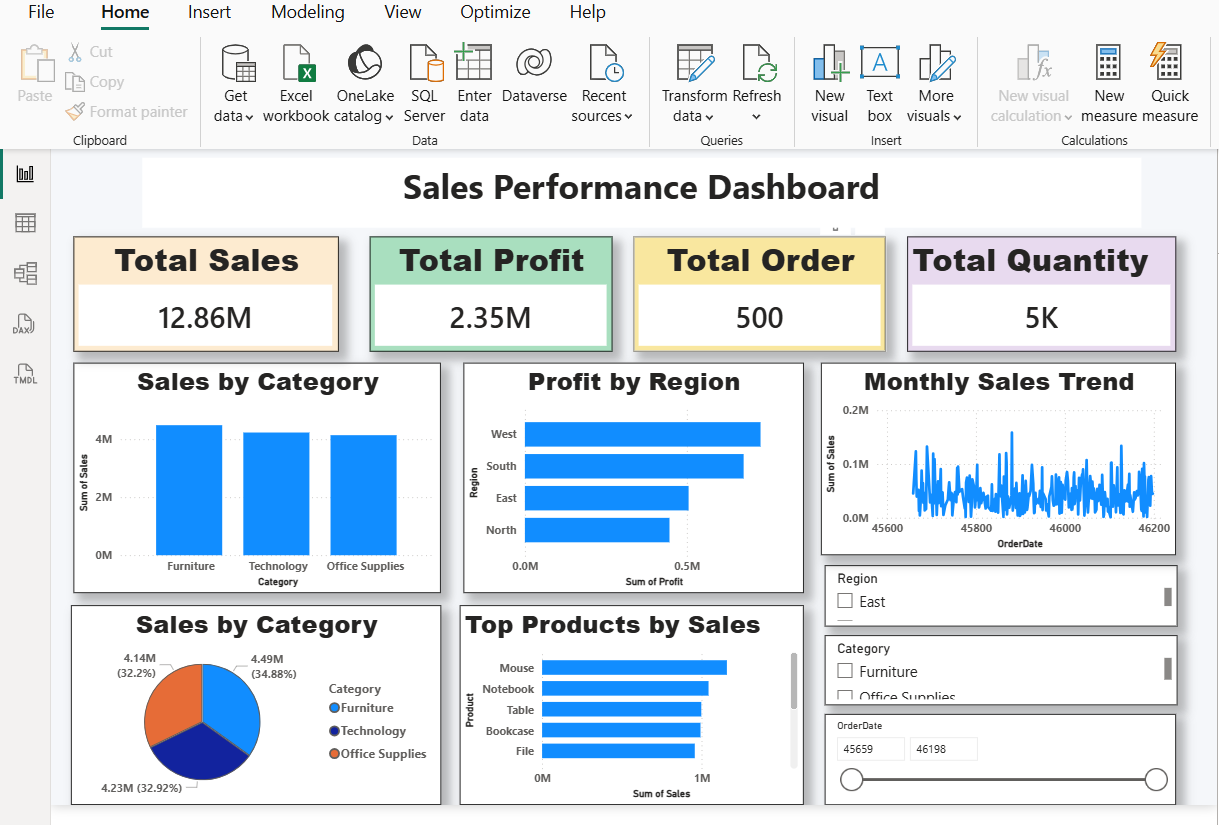

What the dashboard file says about the page in this screenshot:
{"tool":"powerbi","page":{"name":"Page 1","canvas":[1280,720],"ordinal":0},"visuals":[{"type":"cardVisual","title":"Total Profit","fields":{"Data":["SalesData.Total profit"]},"box":[349.9,96.1,266.2,126.2],"z":1000},{"type":"cardVisual","title":"Total Order","fields":{"Data":["SalesData.Total Order"]},"box":[639.5,96.1,277.2,126.2],"z":2000},{"type":"cardVisual","title":"Total Quantity","fields":{"Data":["SalesData.Total Quantity"]},"box":[940,96.1,295,126.2],"z":3000},{"type":"slicer","fields":{"Values":["SalesData.Region"]},"box":[849.4,456.9,389.7,60.4],"z":4000},{"type":"slicer","fields":{"Values":["SalesData.Category"]},"box":[849.4,533.8,385.6,68.6],"z":5000},{"type":"slicer","fields":{"Values":["SalesData.OrderDate"]},"box":[846.7,617.5,389.7,86.4],"z":6000},{"type":"clusteredColumnChart","title":"Sales by Category","fields":{"Category":["SalesData.Category"],"Y":["Sum(SalesData.Sales)"]},"box":[24.7,234.6,403.4,252.5],"z":7000},{"type":"barChart","title":"Profit by Region","fields":{"Category":["SalesData.Region"],"Y":["Sum(SalesData.Profit)"]},"box":[452.8,234.6,373.2,252.5],"z":8000},{"type":"lineChart","title":"Sales by OrderDate","fields":{"Category":["SalesData.OrderDate"],"Y":["Sum(SalesData.Sales)"]},"box":[845.3,234.6,389.7,211.3],"z":9000},{"type":"pieChart","title":"Sales by Category","fields":{"Category":["SalesData.Category"],"Y":["Sum(SalesData.Sales)"]},"box":[22,500.9,406.2,203.1],"z":10000},{"type":"barChart","title":"Top Products by Sales","fields":{"Category":["SalesData.Product"],"Y":["Sum(SalesData.Sales)"]},"box":[448.7,500.9,377.4,203.1],"z":11000},{"type":"cardVisual","title":"Total Sales","fields":{"Data":["SalesData.Total sales"]},"box":[24.7,96.1,290.9,126.2],"z":11001},{"type":"textbox","box":[100.2,9.6,1096.4,76.8],"z":11002}]}

Visuals, with their boxes in screenshot pixels (x1, y1, x2, y2):
"Total Profit" cardVisual: bbox(368, 252, 609, 366)
"Total Order" cardVisual: bbox(630, 252, 881, 366)
"Total Quantity" cardVisual: bbox(902, 252, 1170, 366)
slicer - SalesData.Region: bbox(820, 579, 1173, 634)
slicer - SalesData.Category: bbox(820, 649, 1170, 711)
slicer - SalesData.OrderDate: bbox(818, 724, 1171, 803)
"Sales by Category" clusteredColumnChart: bbox(73, 378, 439, 606)
"Profit by Region" barChart: bbox(461, 378, 799, 606)
"Sales by OrderDate" lineChart: bbox(817, 378, 1170, 569)
"Sales by Category" pieChart: bbox(71, 619, 439, 803)
"Top Products by Sales" barChart: bbox(457, 619, 799, 803)
"Total Sales" cardVisual: bbox(73, 252, 337, 366)
textbox: bbox(142, 174, 1135, 243)
